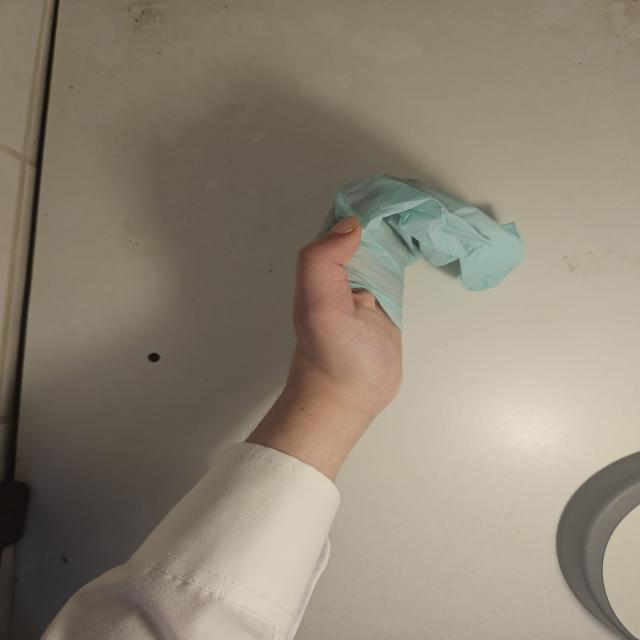glove_partial: (291, 170, 529, 403)
